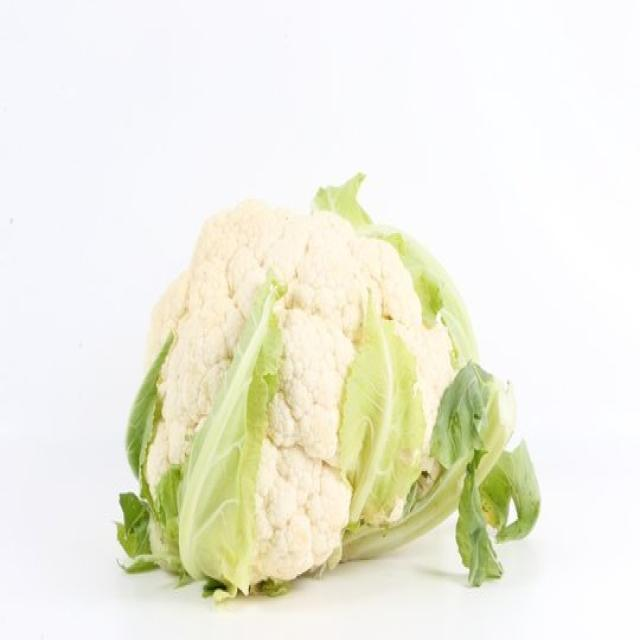Cauliflower: (142, 200, 494, 579)
